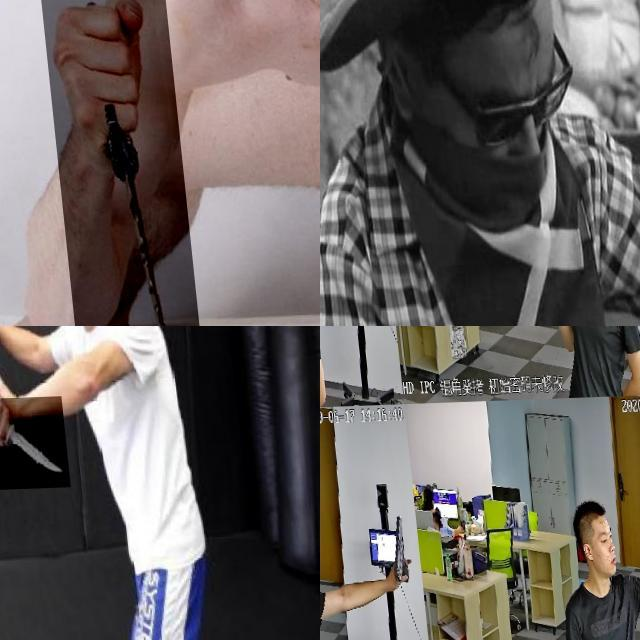-: (37, 0, 206, 326), (0, 399, 63, 492)
gun-knife-thesis - v11 Yolov5 augmented: (376, 513, 402, 586), (517, 326, 558, 360), (320, 326, 341, 365)
